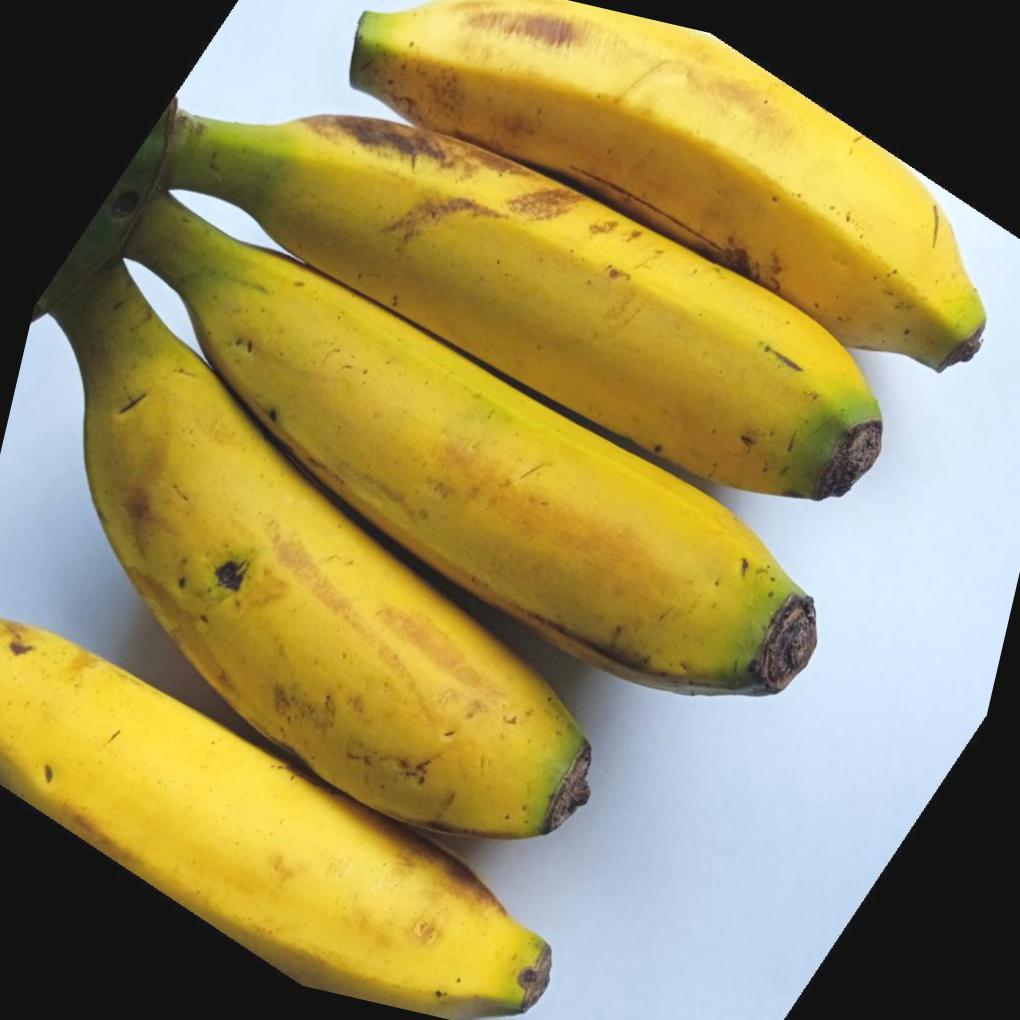Banana Ripe: (0, 107, 943, 906), (239, 0, 1020, 560), (0, 549, 740, 1020)
